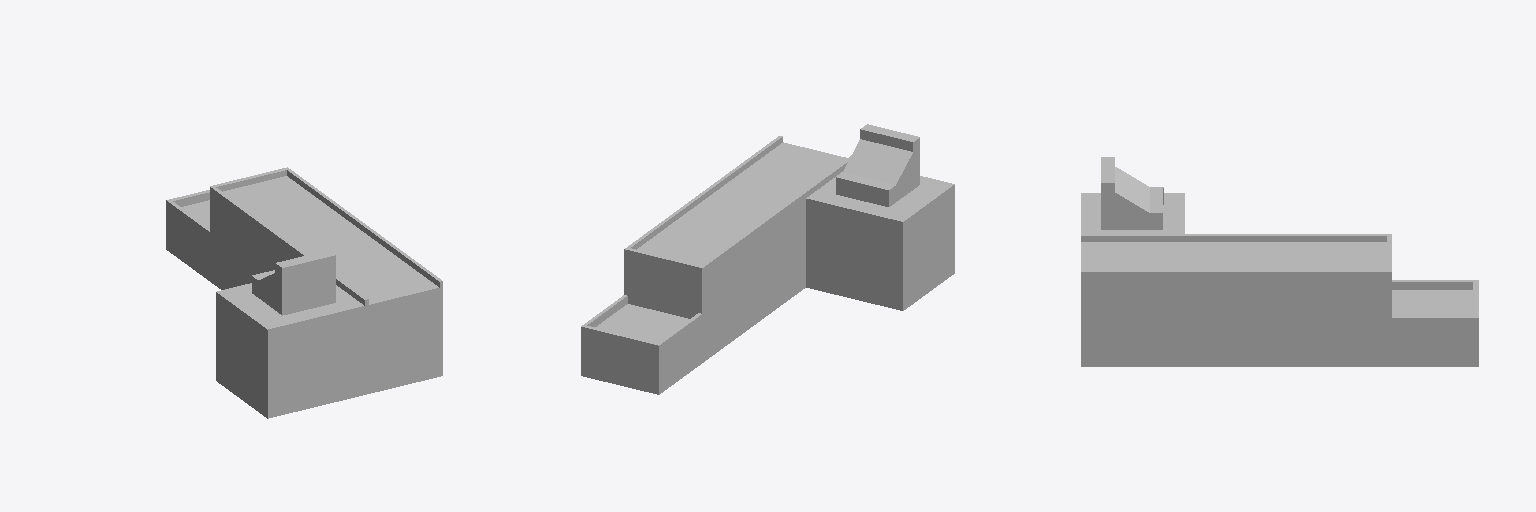
File: CashierTable.obj
3 renders of one model, left to right at view 1: azimuth 30°, elevation 25°; view 2: azimuth 150°, elevation 25°; view 3: azimuth 270°, elevation 25°, orthographic.
Visible parts, largest first — view 1: initialShadingGroup polySurface3; view 2: initialShadingGroup polySurface3; view 3: initialShadingGroup polySurface3.
Boxes of the visible parts, <box> form: initialShadingGroup polySurface3: <box>166,167,442,418</box>; initialShadingGroup polySurface3: <box>581,124,954,394</box>; initialShadingGroup polySurface3: <box>1081,157,1478,366</box>.
Size of the model in its own units: 5.91 by 4.42 by 11.6.